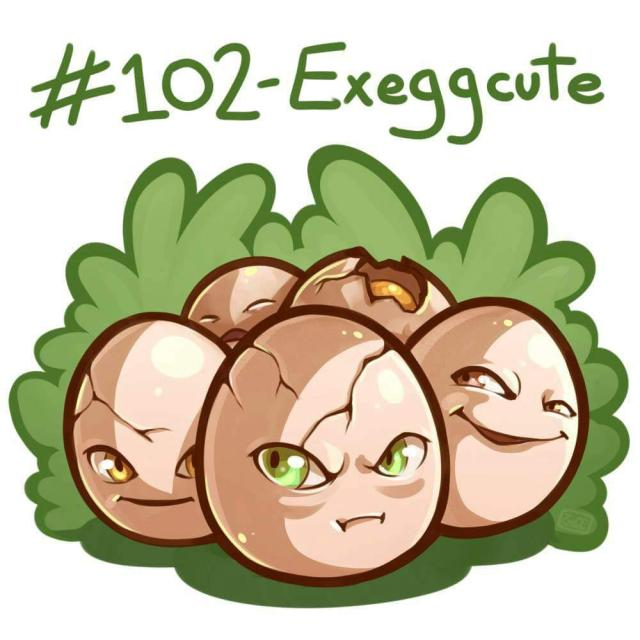Exeggcute: (65, 243, 583, 579)
